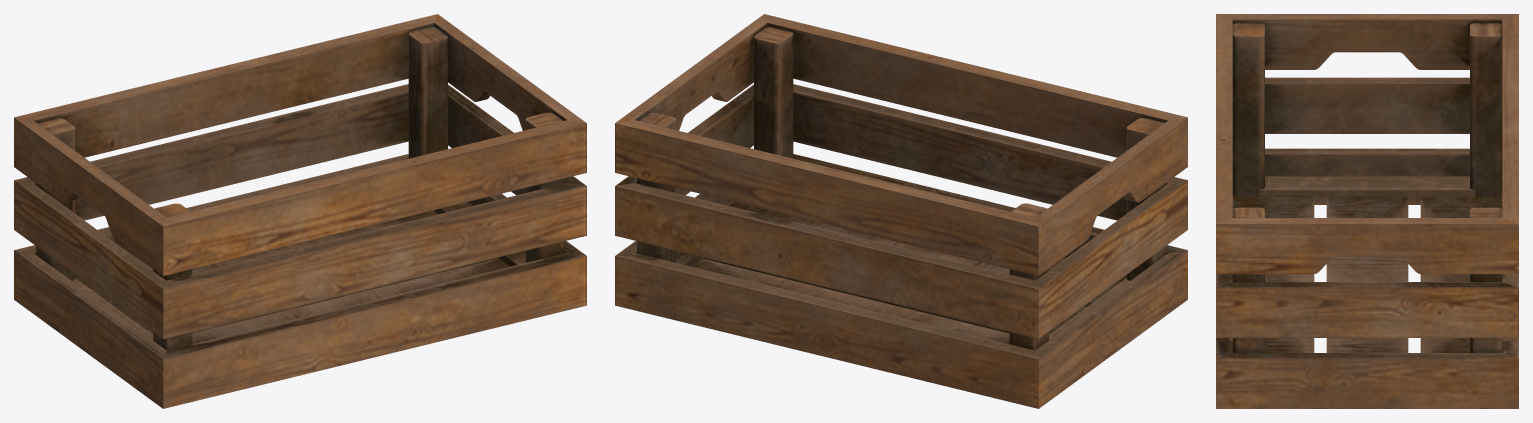
Rendered from Fruit_Crate.fbx.
The picture shows the model from 3 angles, left to right: view 1: azimuth 30°, elevation 25°; view 2: azimuth 150°, elevation 25°; view 3: azimuth 270°, elevation 25°; orthographic projection.
Parts seen in each view (by area): view 1: Box; view 2: Box; view 3: Box.
Boxes of the visible parts, x1,y1,x2,y2 form: Box: (14,14,586,408); Box: (615,14,1187,408); Box: (1216,14,1518,408).
Size of the model in its own units: 212 by 87.01 by 129.
1 material, 1 textured.
